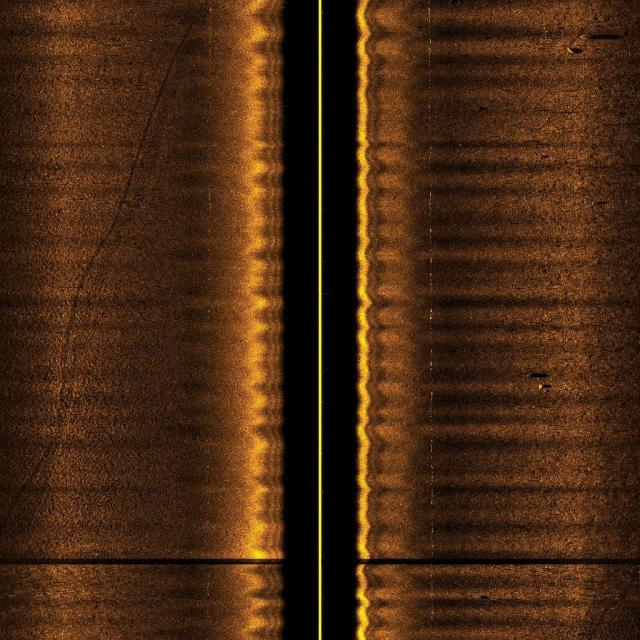mine: (565, 44, 586, 55)
